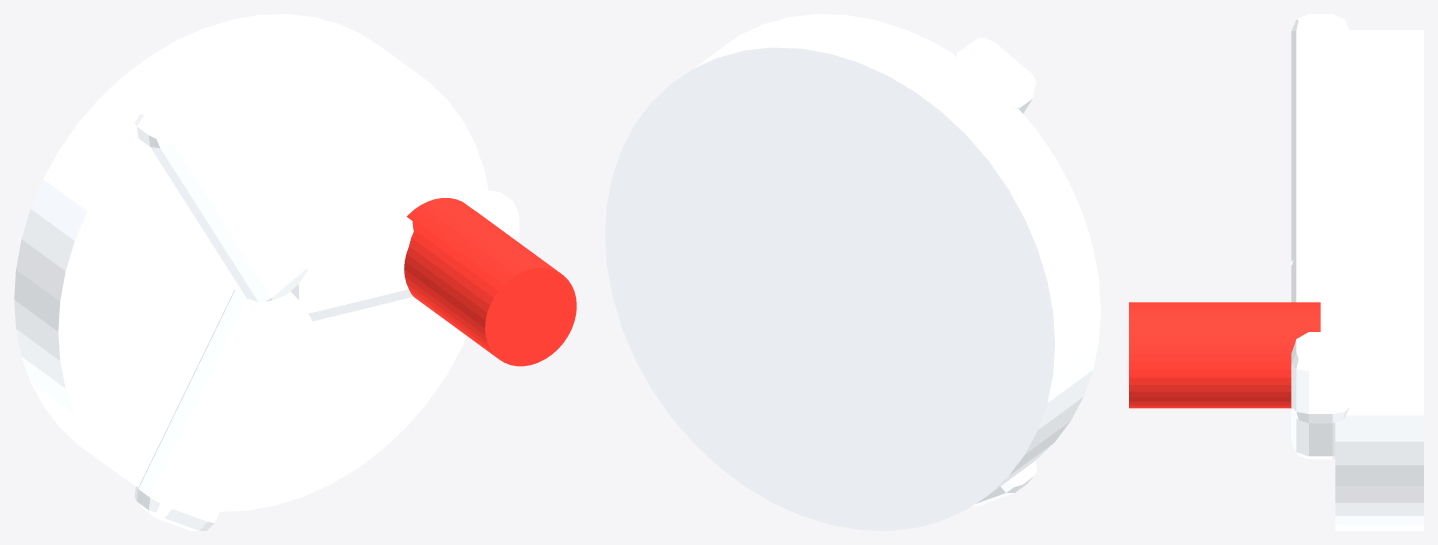
File: gacha_crank.glb
3 renders of one model, left to right at view 1: azimuth 30°, elevation 25°; view 2: azimuth 150°, elevation 25°; view 3: azimuth 270°, elevation 25°, orthographic. The views are drawn at different scales.
Parts seen in each view (by area): view 1: gacha_crank; view 2: gacha_crank; view 3: gacha_crank.
Boxes of the visible parts, bbox=[...] form: gacha_crank: bbox=[14, 14, 576, 530]; gacha_crank: bbox=[605, 14, 1100, 530]; gacha_crank: bbox=[1129, 14, 1423, 530].
Bounding box in the file's own units: 0.175 × 0.17 × 0.1.
